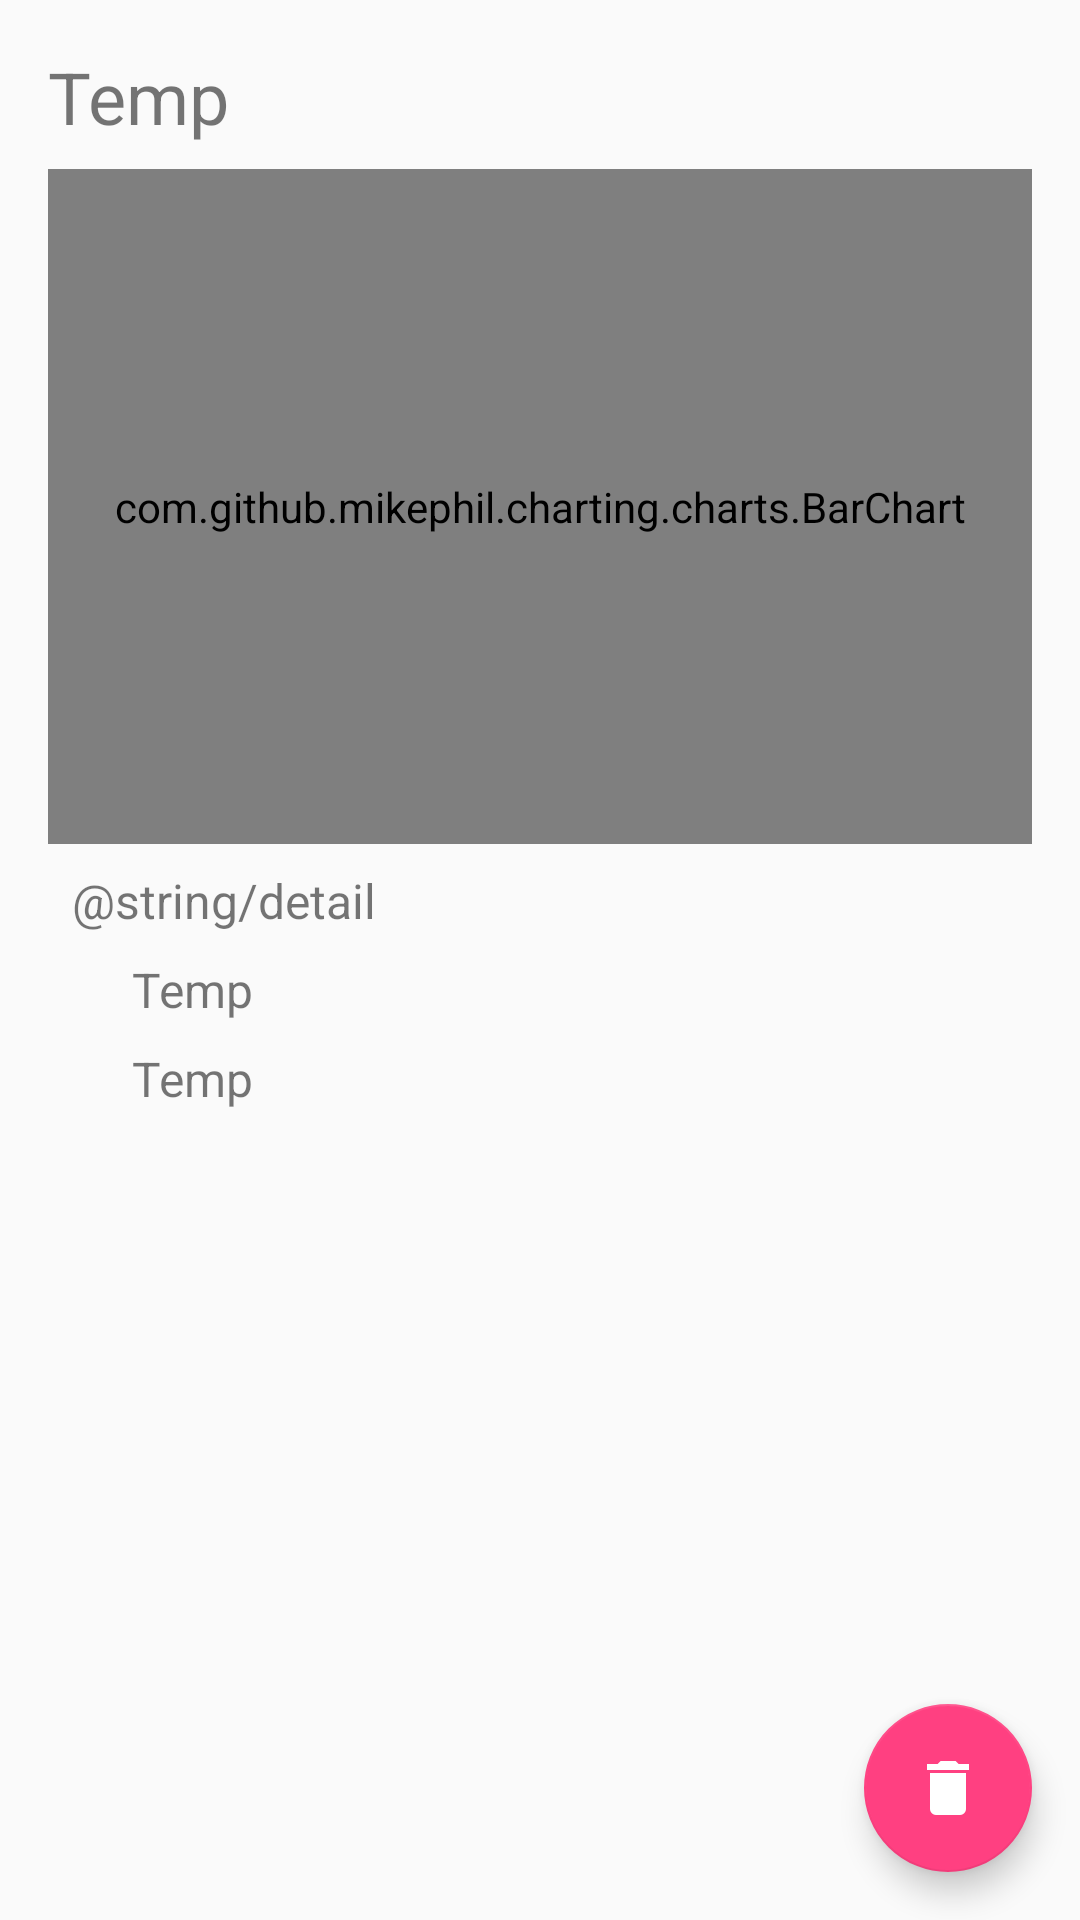

Named icons in this screenshot (1080×1920) and their bounding boxes, (x1, y1, x2, y2):
delete: (864, 1704, 1032, 1872)
